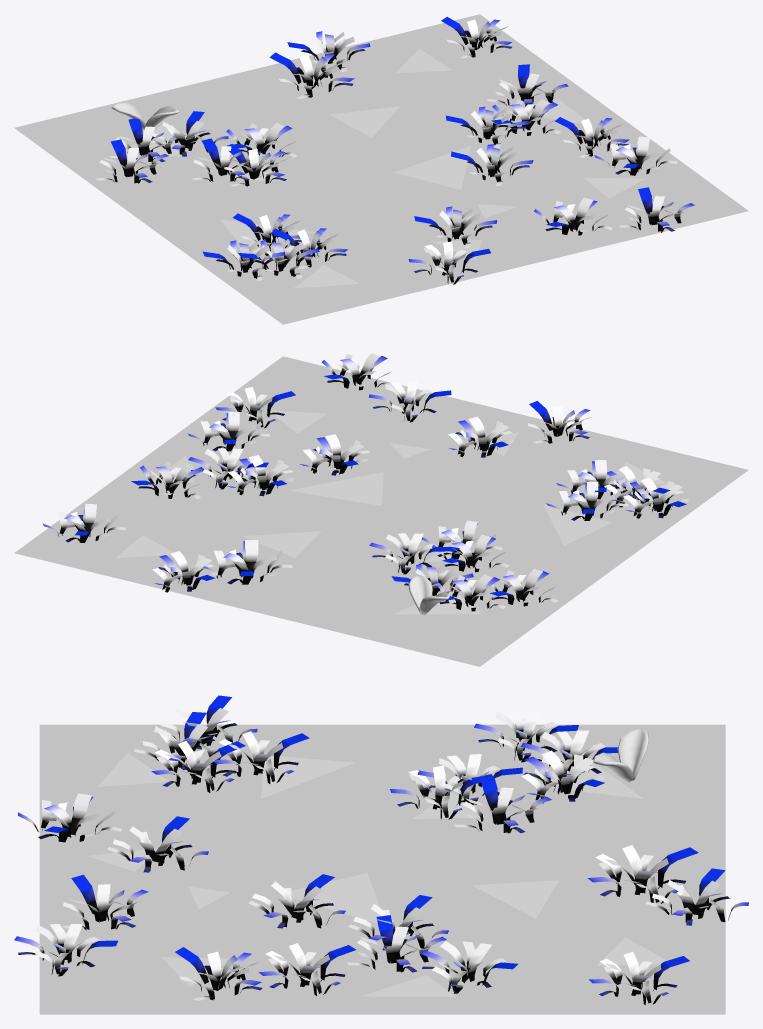
The model's file is TILE_FIELDS_GRASSY.fbx.
The picture shows the model from 3 angles, top to bottom: view 1: azimuth 30°, elevation 25°; view 2: azimuth 150°, elevation 25°; view 3: azimuth 270°, elevation 25°; orthographic projection. The views are drawn at different scales.
Visible parts, largest first — view 1: FLOOR.004, !Env_Grass_Square_SingleSided.057, !Env_Grass_Square_SingleSided.115, CHAR_VEGGY_HEAD.010; view 2: FLOOR.004, !Env_Grass_Square_SingleSided.057, !Env_Grass_Square_SingleSided.115, CHAR_VEGGY_HEAD.010; view 3: FLOOR.004, !Env_Grass_Square_SingleSided.057, !Env_Grass_Square_SingleSided.115, CHAR_VEGGY_HEAD.010.
Part boxes in pixels (x1,y1,x2,y2): FLOOR.004: [14, 14, 748, 324]; !Env_Grass_Square_SingleSided.057: [95, 16, 694, 284]; !Env_Grass_Square_SingleSided.115: [534, 198, 612, 235]; CHAR_VEGGY_HEAD.010: [111, 102, 179, 131]; FLOOR.004: [14, 356, 748, 666]; !Env_Grass_Square_SingleSided.057: [42, 353, 688, 611]; !Env_Grass_Square_SingleSided.115: [369, 380, 451, 422]; CHAR_VEGGY_HEAD.010: [408, 574, 450, 615]; FLOOR.004: [39, 724, 725, 1014]; !Env_Grass_Square_SingleSided.057: [14, 695, 748, 1004]; !Env_Grass_Square_SingleSided.115: [62, 874, 148, 930]; CHAR_VEGGY_HEAD.010: [593, 727, 648, 782].
Bounding box in the file's own units: 204 × 23.34 × 214.
